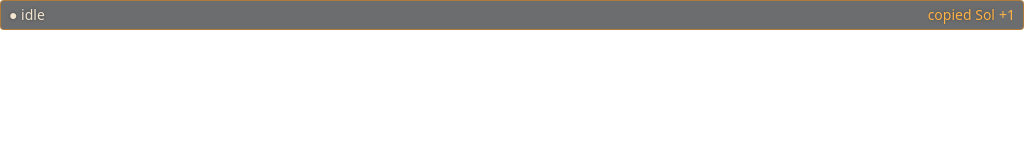
it: click targets › gives the clicks back when the hovered +n button goes
Hover over the button with class "more-notices" at (1007, 15), box x1=999 y1=5 x2=1015 y2=25
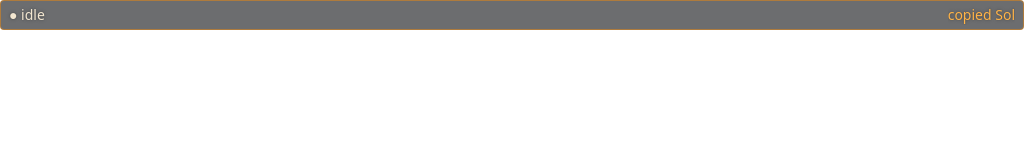
expect the button with class "more-notices" is gone: met
